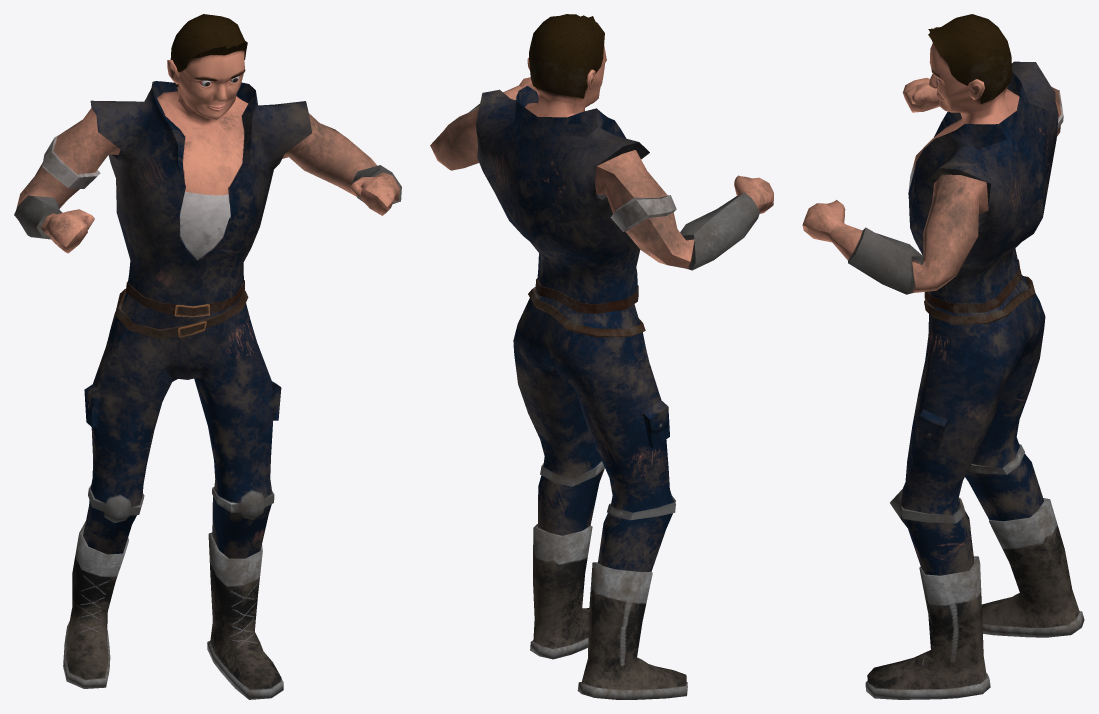
Rendered from Anim_especial_jugador.0010.obj.
3 renders of one model, left to right at view 1: azimuth 30°, elevation 25°; view 2: azimuth 150°, elevation 25°; view 3: azimuth 270°, elevation 25°, orthographic. The views are drawn at different scales.
Visible parts, largest first — view 1: polySurface1; view 2: polySurface1; view 3: polySurface1.
Part boxes in pixels (x1,y1,x2,y2): polySurface1: (14, 14, 401, 699); polySurface1: (430, 14, 773, 699); polySurface1: (802, 14, 1084, 699).
Bounding box in the file's own units: 5.26 × 9.59 × 3.67.
